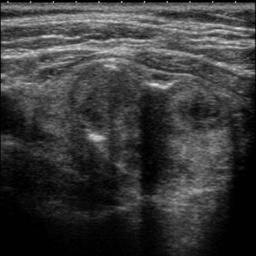mass: (68, 66, 222, 188)
